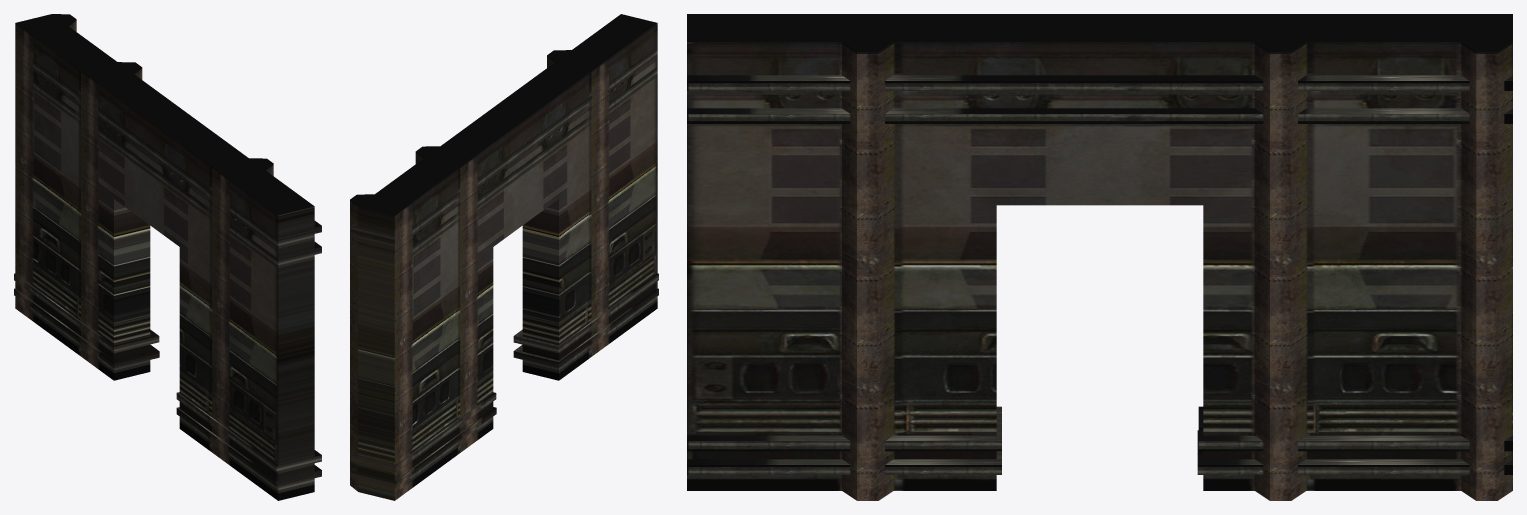
Rendered from Porta_boolean+tex.fbx.
3 views of the same model, side by side, from view 1: azimuth 30°, elevation 25°; view 2: azimuth 150°, elevation 25°; view 3: azimuth 270°, elevation 25° (orthographic). The views are drawn at different scales.
Parts seen in each view (by area): view 1: polySurface1; view 2: polySurface1; view 3: polySurface1.
Boxes of the visible parts, bbox=[...] form: polySurface1: bbox=[14, 14, 321, 500]; polySurface1: bbox=[350, 14, 658, 500]; polySurface1: bbox=[687, 14, 1512, 500].
Bounding box in the file's own units: 1.12 × 6 × 10.
